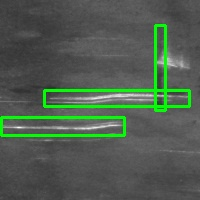inclusion: (155, 25, 165, 110)
scratches: (44, 90, 189, 106), (1, 117, 124, 135), (150, 48, 190, 71)
